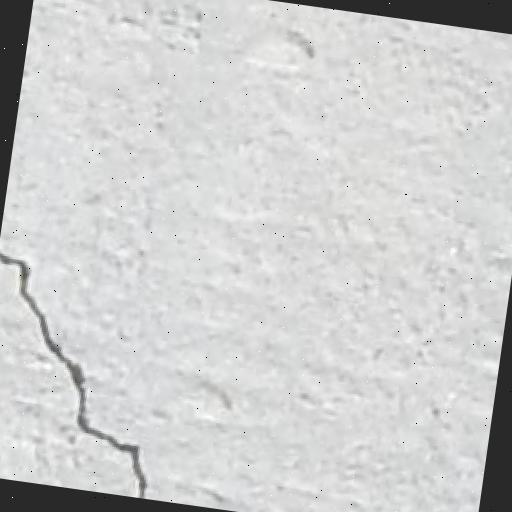spalling: (5, 230, 161, 495)
